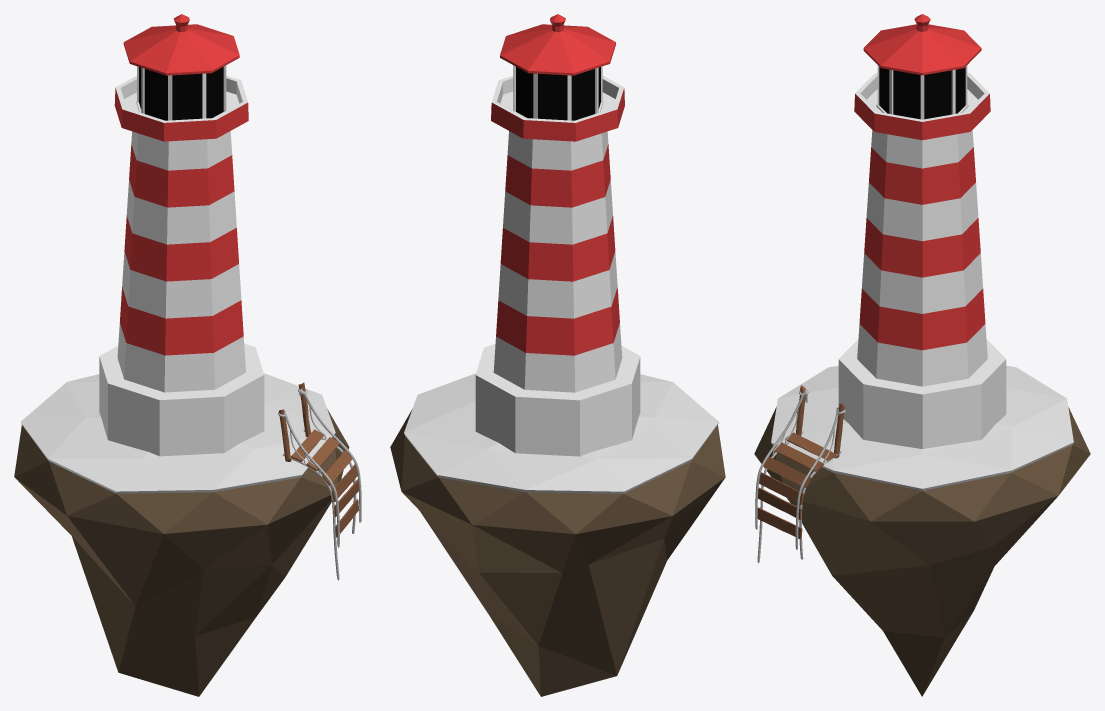
Rendered from lighthouse.glb.
3 views of the same model, side by side, from view 1: azimuth 30°, elevation 25°; view 2: azimuth 150°, elevation 25°; view 3: azimuth 270°, elevation 25° (orthographic).
Visible parts, largest first — view 1: ground, houseGrey, houseRed, grass, window, wood, rope; view 2: ground, houseGrey, houseRed, grass, window; view 3: ground, houseGrey, houseRed, grass, wood, window, rope.
Boxes of the visible parts, <box> form: ground: <box>14,409,349,696</box>; houseGrey: <box>99,65,264,456</box>; houseRed: <box>114,14,248,355</box>; grass: <box>21,373,335,493</box>; window: <box>139,67,223,120</box>; wood: <box>279,382,358,537</box>; rope: <box>278,388,361,580</box>; ground: <box>390,409,725,696</box>; houseGrey: <box>475,65,640,456</box>; houseRed: <box>491,14,624,355</box>; grass: <box>404,373,718,493</box>; window: <box>516,67,600,120</box>; ground: <box>754,407,1090,696</box>; houseGrey: <box>838,65,1006,448</box>; houseRed: <box>854,14,990,350</box>; grass: <box>771,366,1073,490</box>; wood: <box>757,385,844,539</box>; window: <box>879,67,965,119</box>; rope: <box>755,390,845,562</box>.
Bounding box in the file's own units: 0.2421 × 0.563 × 0.2546.
